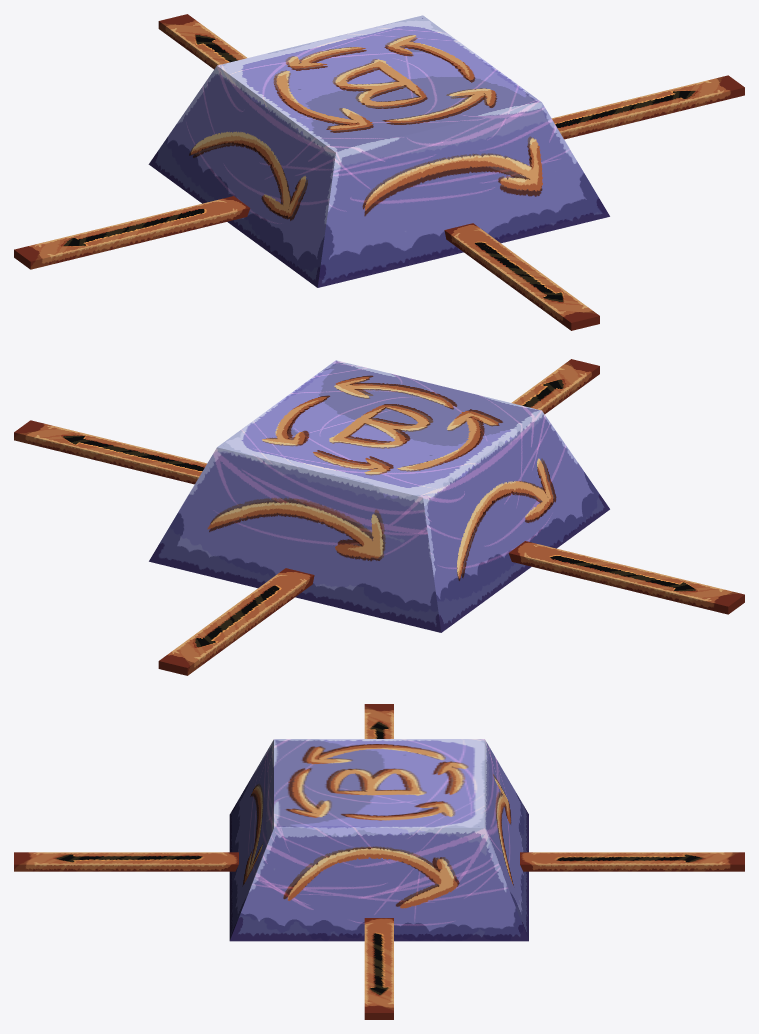
The model's file is Drone Body.fbx.
3 renders of one model, top to bottom at view 1: azimuth 30°, elevation 25°; view 2: azimuth 150°, elevation 25°; view 3: azimuth 270°, elevation 25°, orthographic. The views are drawn at different scales.
Visible parts, largest first — view 1: Box001; view 2: Box001; view 3: Box001.
Boxes of the visible parts, x1,y1,x2,y2 form: Box001: [14, 14, 744, 330]; Box001: [14, 359, 744, 675]; Box001: [14, 704, 744, 1019].
Size of the model in its own units: 111 by 15.75 by 111.
1 material, 1 textured.
